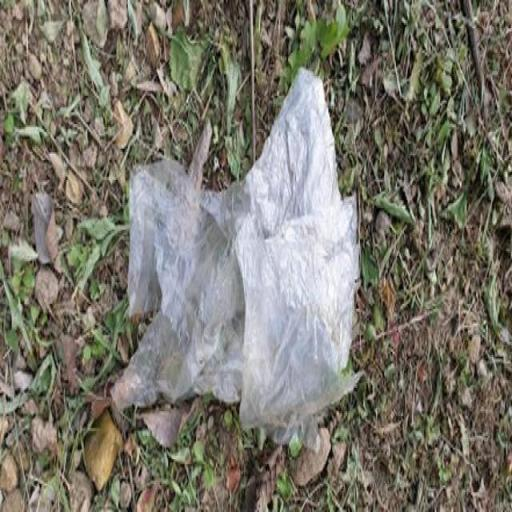plastic-bag: (109, 65, 365, 445)
